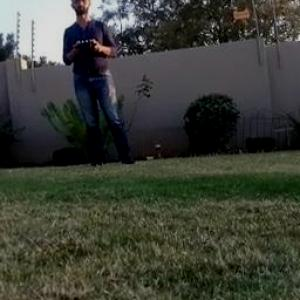follow: (58, 0, 141, 173)
